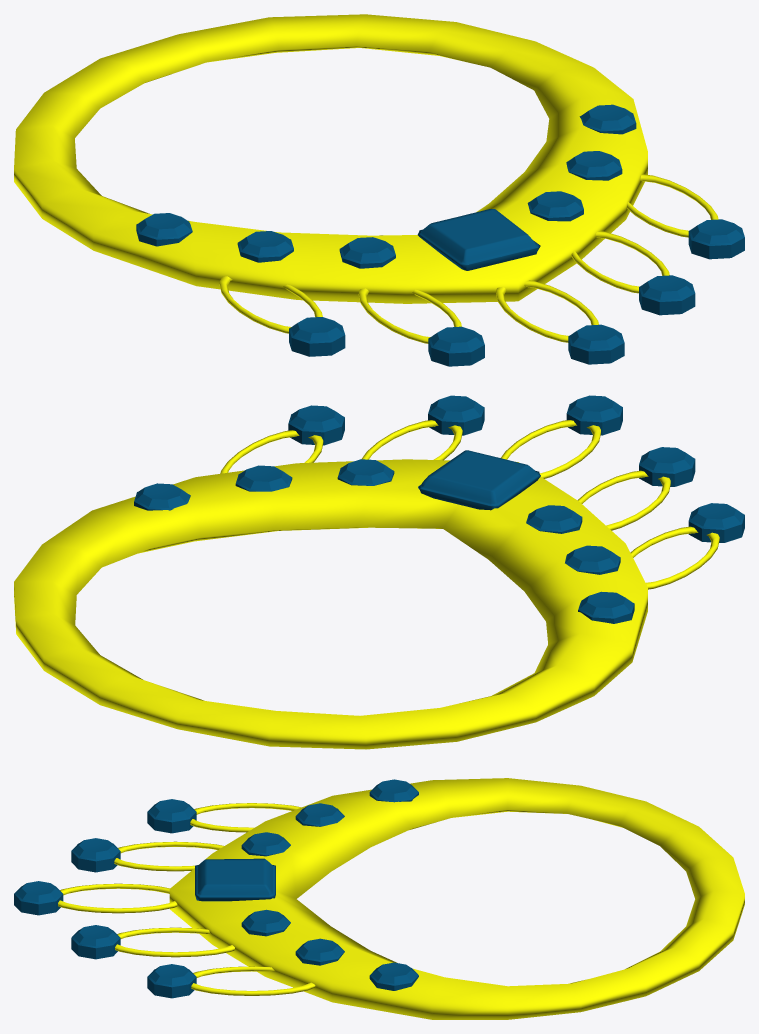
File: MSH_Collar.obj
3 renders of one model, top to bottom at view 1: azimuth 30°, elevation 25°; view 2: azimuth 150°, elevation 25°; view 3: azimuth 270°, elevation 25°, orthographic. The views are drawn at different scales.
Parts seen in each view (by area): view 1: MSH_Collar pCylinder9; view 2: MSH_Collar pCylinder9; view 3: MSH_Collar pCylinder9.
Part boxes in pixels (x1=…): MSH_Collar pCylinder9: x1=14, y1=14, x2=744, y2=366; MSH_Collar pCylinder9: x1=14, y1=395, x2=744, y2=749; MSH_Collar pCylinder9: x1=14, y1=778, x2=744, y2=1019.
Size of the model in its own units: 8.54 by 0.7485 by 11.58.
